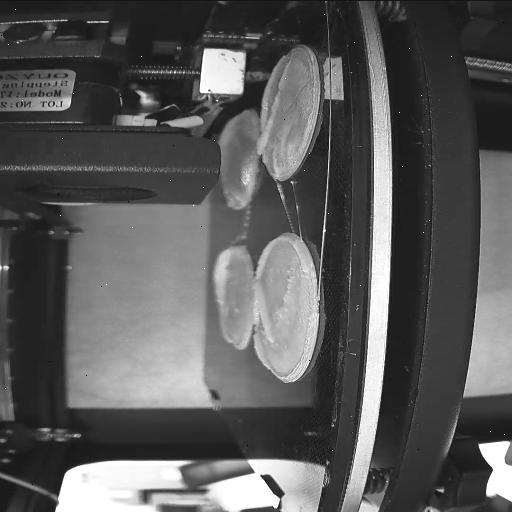over_extrusion: (254, 66, 292, 158), (248, 281, 280, 371), (253, 233, 309, 279), (210, 240, 244, 305), (216, 324, 232, 342)
